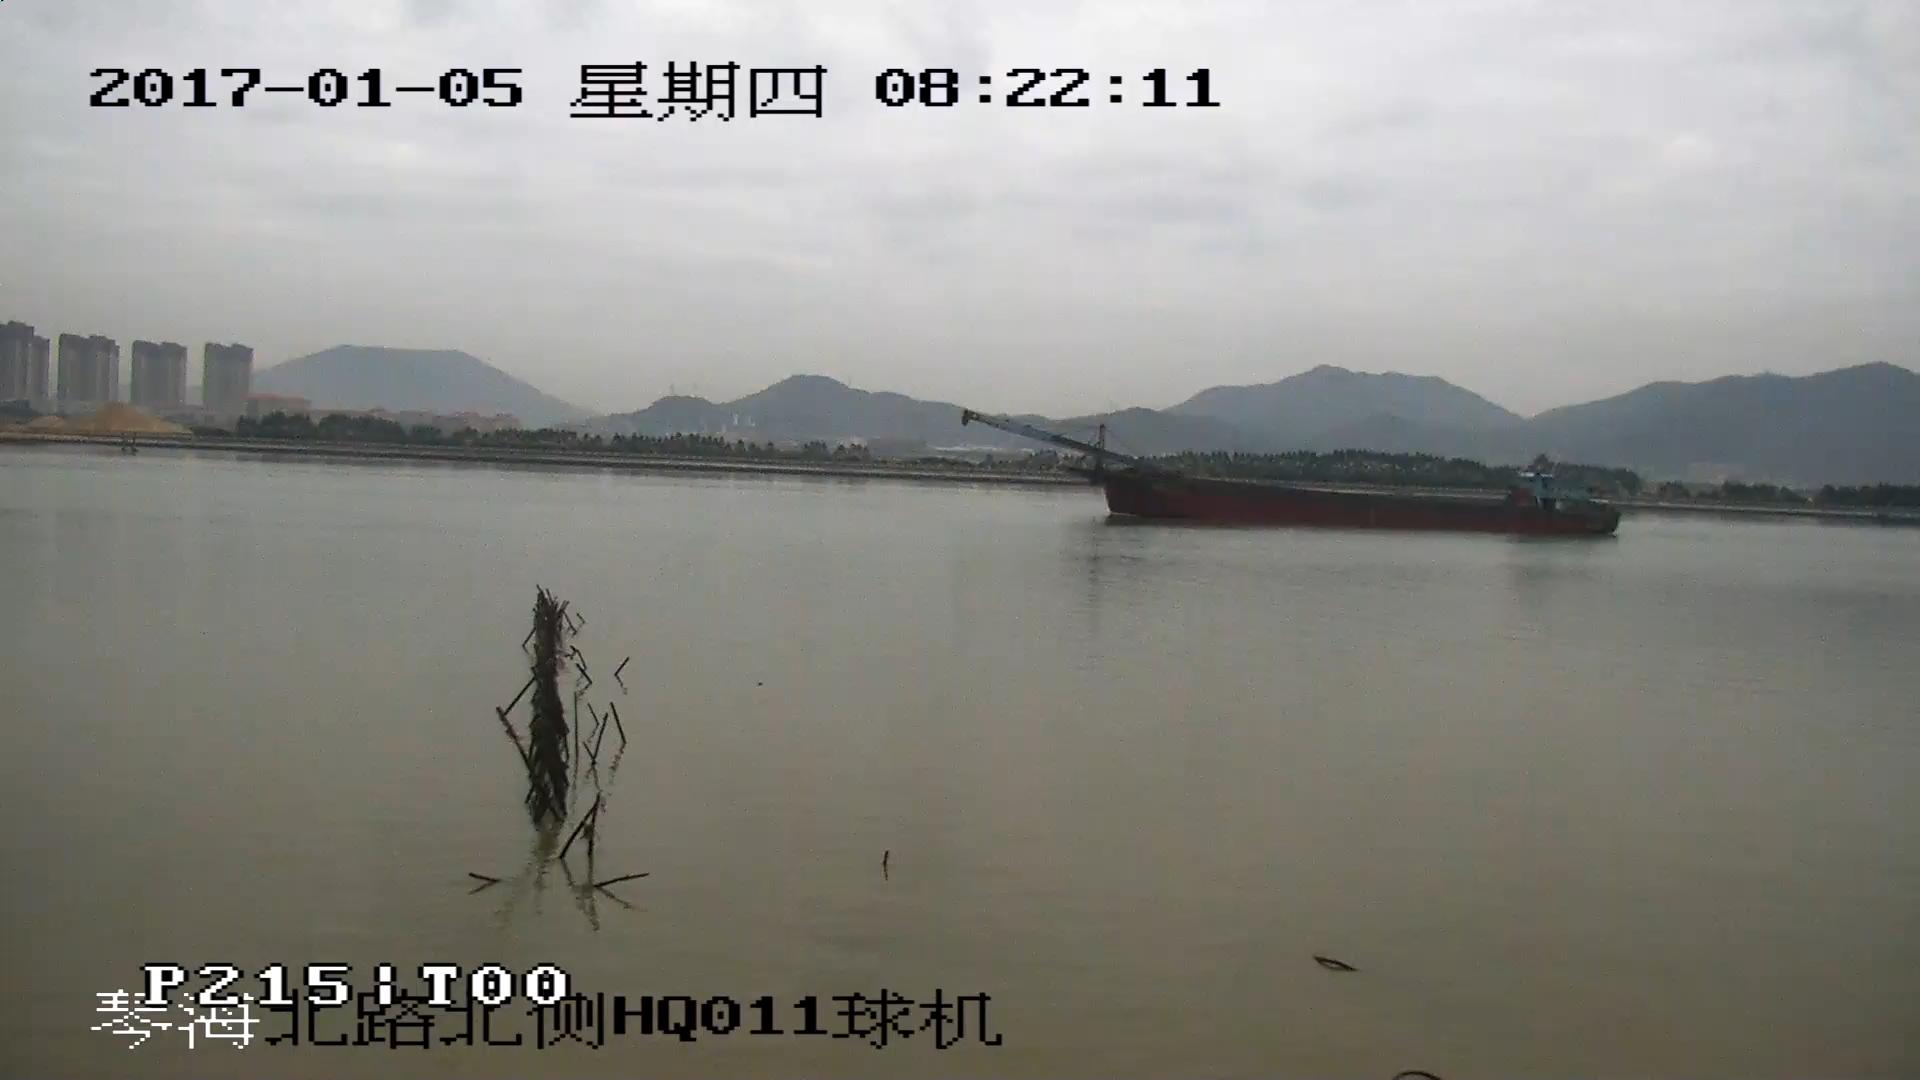bulk cargo carrier: (966, 414, 1625, 536)
